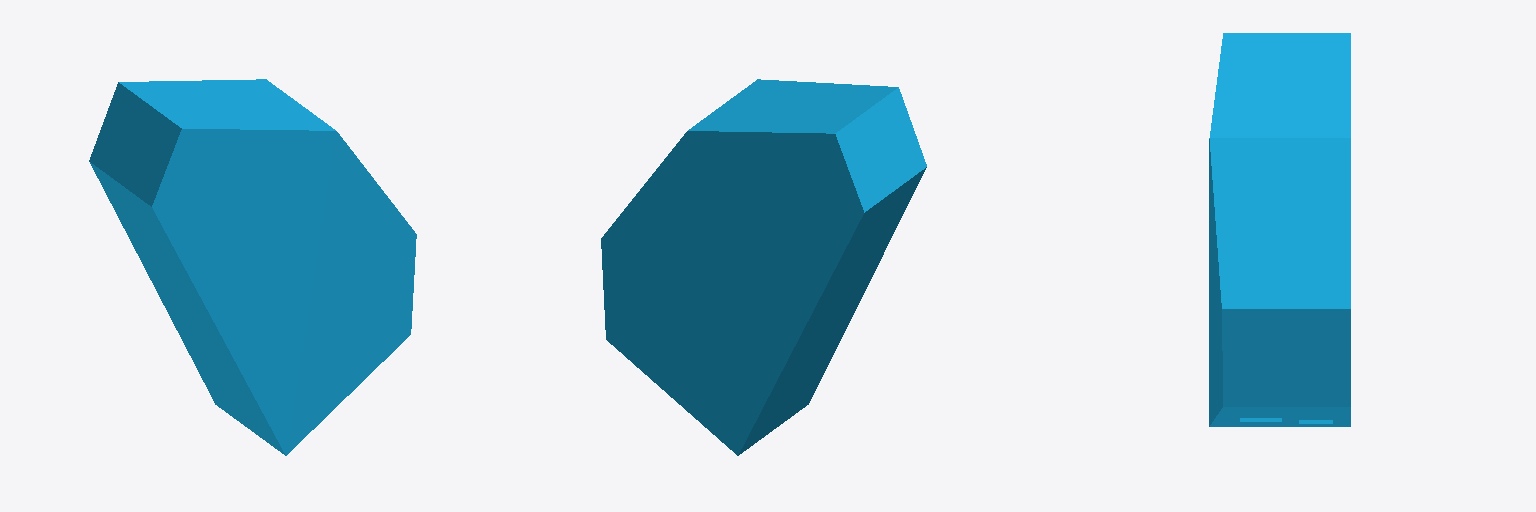
File: Site9-Glass2.obj
The picture shows the model from 3 angles: view 1: azimuth 30°, elevation 25°; view 2: azimuth 150°, elevation 25°; view 3: azimuth 270°, elevation 25°; orthographic projection.
Bounding box in the file's own units: 91.84 × 115 × 42.56.